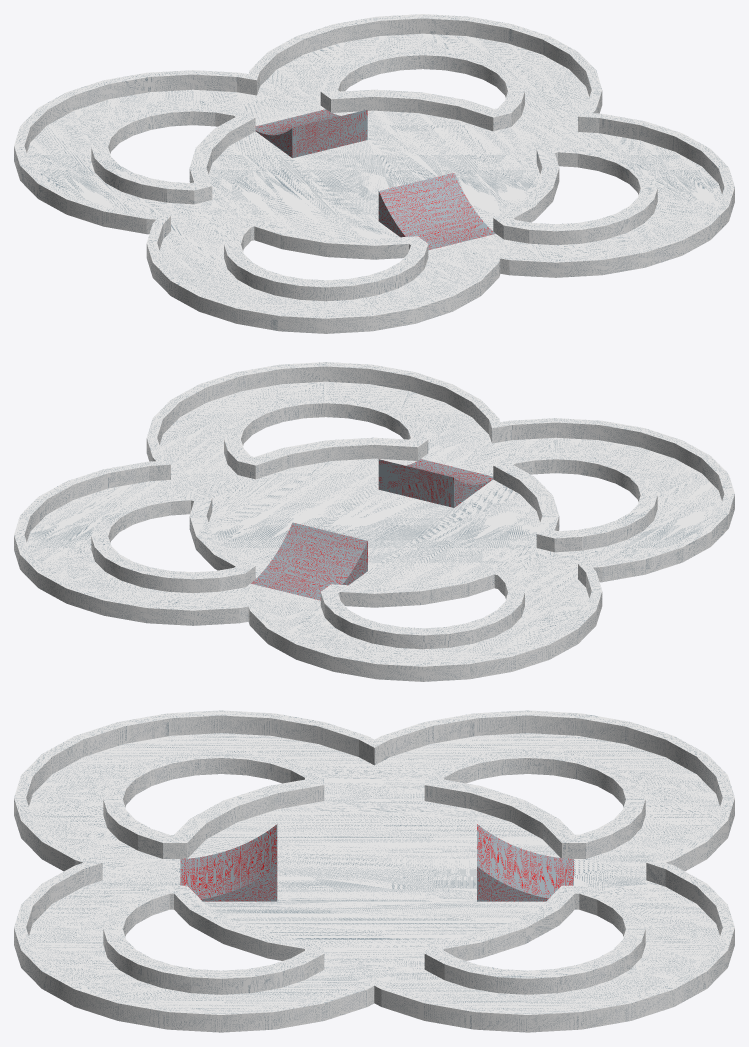
Rendered from mappa1.fbx.
The picture shows the model from 3 angles, top to bottom: view 1: azimuth 30°, elevation 25°; view 2: azimuth 150°, elevation 25°; view 3: azimuth 270°, elevation 25°; orthographic projection. The views are drawn at different scales.
Parts seen in each view (by area): view 1: Model; view 2: Model; view 3: Model.
Boxes of the visible parts, <box> form: Model: <box>14,14,734,333</box>; Model: <box>14,362,734,681</box>; Model: <box>14,710,734,1032</box>.
Bounding box in the file's own units: 37.15 × 2 × 37.15.
